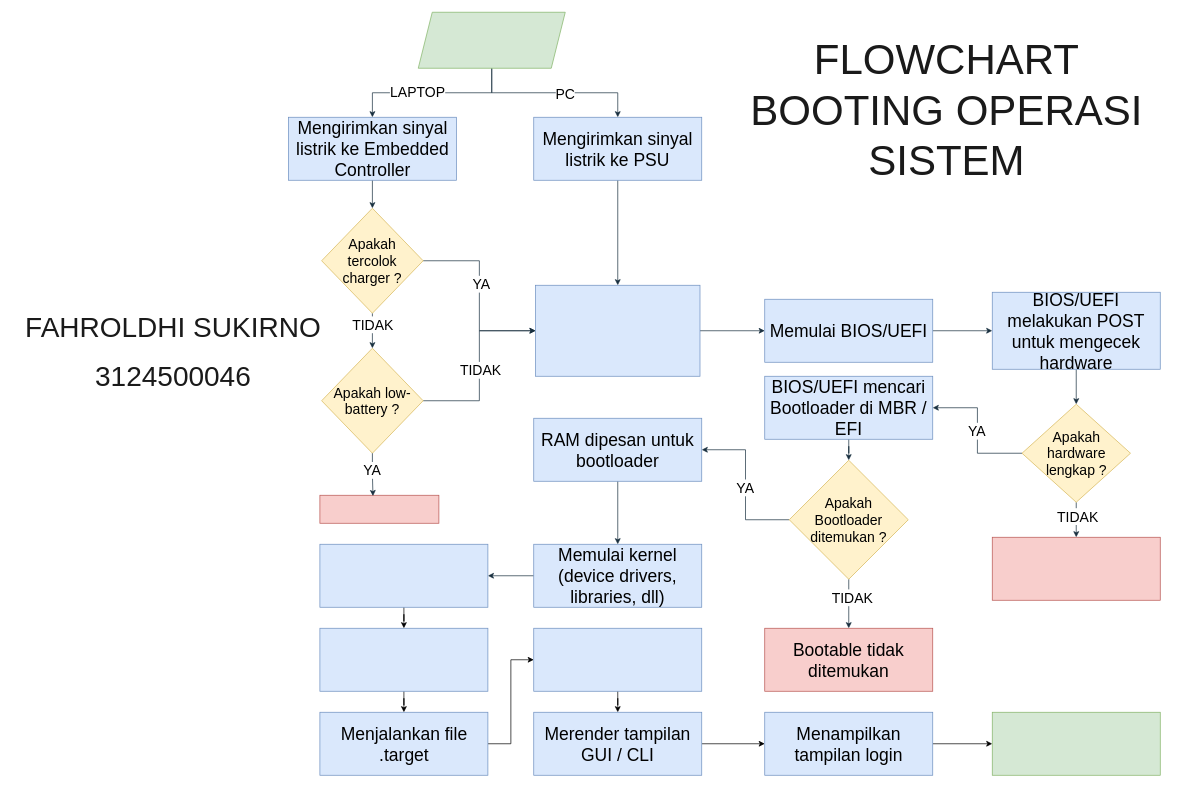
Some shapes in this 1179 by 788 pixel diagram are drawn without their labels. The shapes that lost their labels are listed below. From the top down, each one's centre as x and y in pixels, then its label:
At (491,40): "POWER ON".
At (617,330): "CPU mengeksekusi BIOS/UEFI dari ROM / NOR flash memory".
At (379,509): "Tidak menyala".
At (403,575): "RAM dipesan untuk kernel".
At (1076,568): "Tidak ada sinyal / booting gagal".
At (403,659): "Menjalankan file init (systemd, wininit.exe)".
At (617,659): "Menjalankan startup script".
At (1076,743): "Sistem berhasil jalan".
